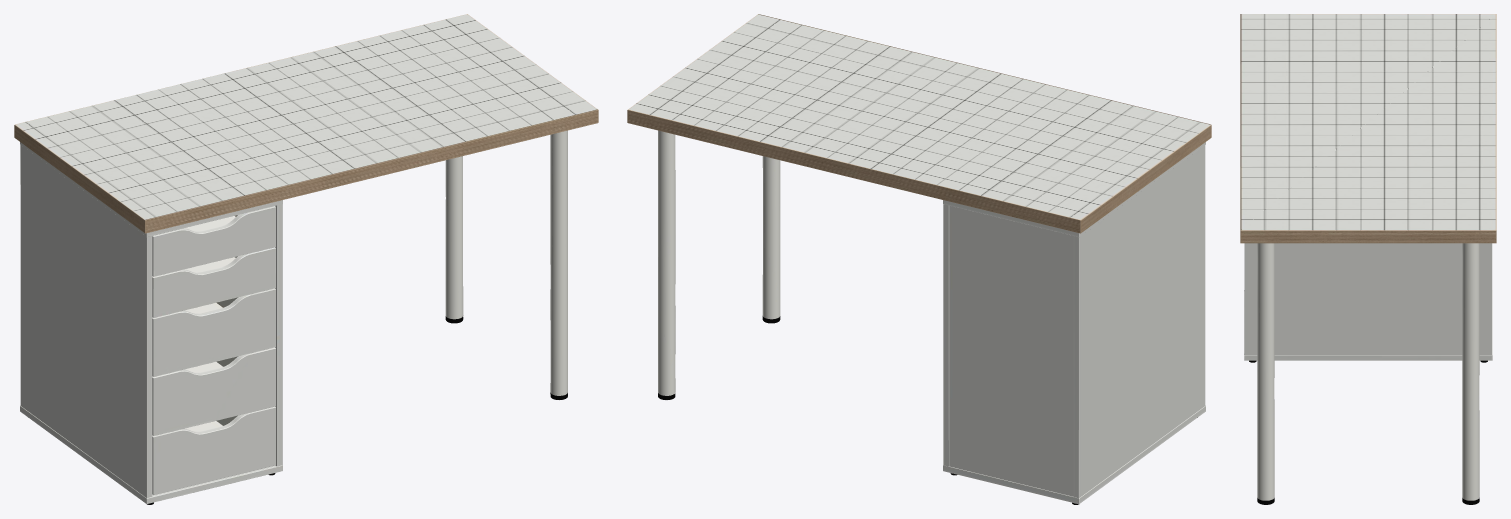
The model's file is LAGKAPTEN_ALEX_89417057.glb.
3 views of the same model, side by side, from view 1: azimuth 30°, elevation 25°; view 2: azimuth 150°, elevation 25°; view 3: azimuth 270°, elevation 25° (orthographic). The views are drawn at different scales.
Visible parts, largest first — view 1: 00473546-ALEX001, model, 90217972-ADILS001, 90217972-ADILS001.001; view 2: 00473546-ALEX001, model, 90217972-ADILS001.001, 90217972-ADILS001; view 3: model, 00473546-ALEX001, 90217972-ADILS001, 90217972-ADILS001.001.
Part boxes in pixels (bbox=[...]): 00473546-ALEX001: bbox=[20, 142, 282, 504]; model: bbox=[14, 14, 598, 233]; 90217972-ADILS001: bbox=[550, 130, 567, 399]; 90217972-ADILS001.001: bbox=[445, 156, 463, 323]; 00473546-ALEX001: bbox=[943, 142, 1205, 504]; model: bbox=[627, 14, 1211, 233]; 90217972-ADILS001.001: bbox=[658, 130, 675, 399]; 90217972-ADILS001: bbox=[762, 156, 780, 323]; model: bbox=[1240, 14, 1496, 243]; 00473546-ALEX001: bbox=[1244, 243, 1492, 362]; 90217972-ADILS001: bbox=[1257, 243, 1274, 504]; 90217972-ADILS001.001: bbox=[1462, 243, 1479, 504].
Bounding box in the file's own units: 1.2 × 0.7341 × 0.5999.
Materials: 3 (3 with a texture image).
